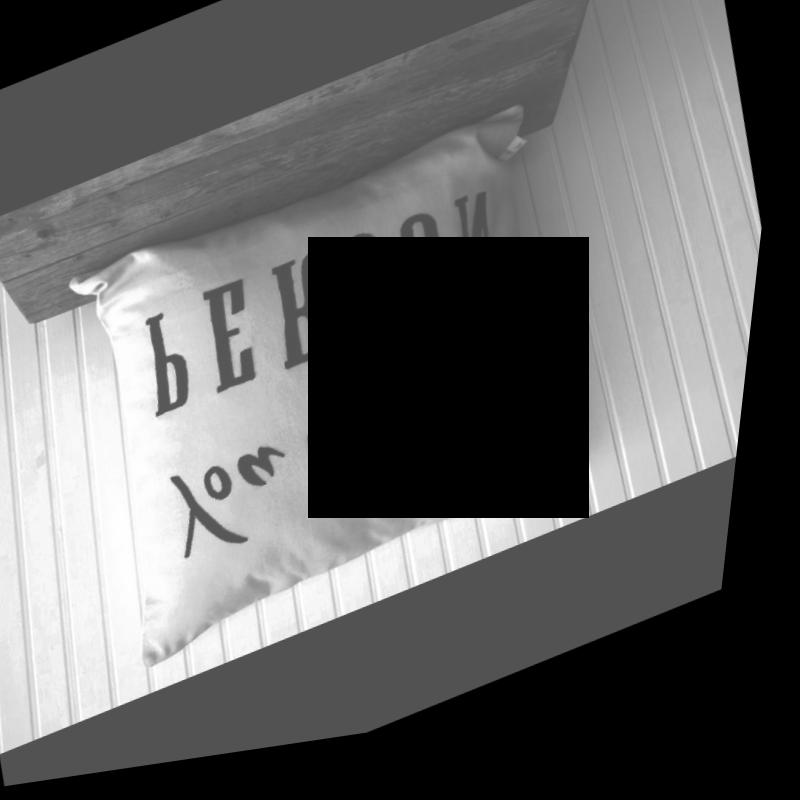pillow: (43, 103, 634, 685)
